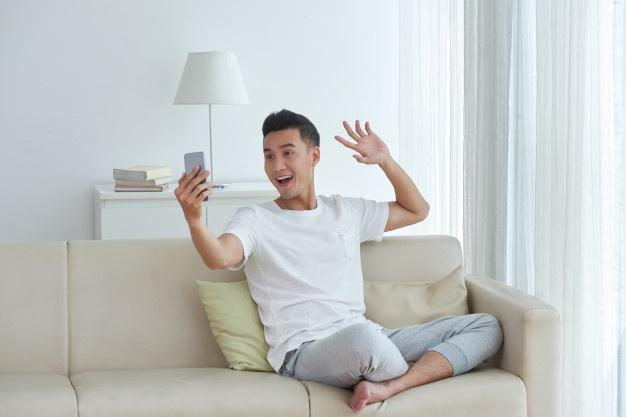FallenBody: (177, 118, 501, 404)
